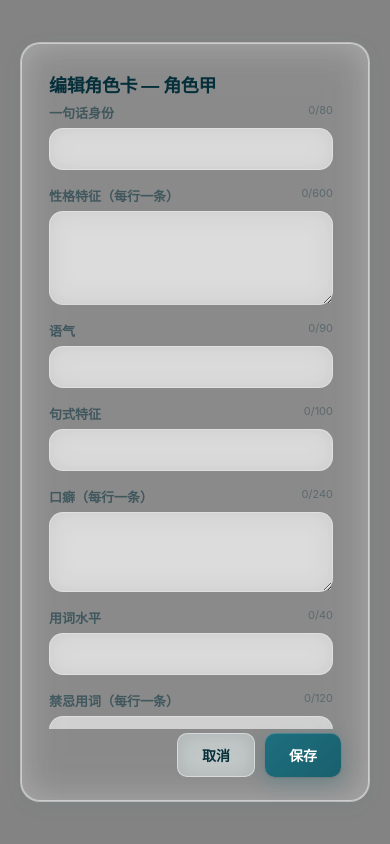
弹窗里的写失败不关窗 › 保存失败：错误显示在弹窗内，弹窗还开着、按钮可再点
The width and height of the screenshot is (390, 844).
Step 1. Click the button "保存" → (303,755), box x1=265 y1=733 x2=341 y2=777
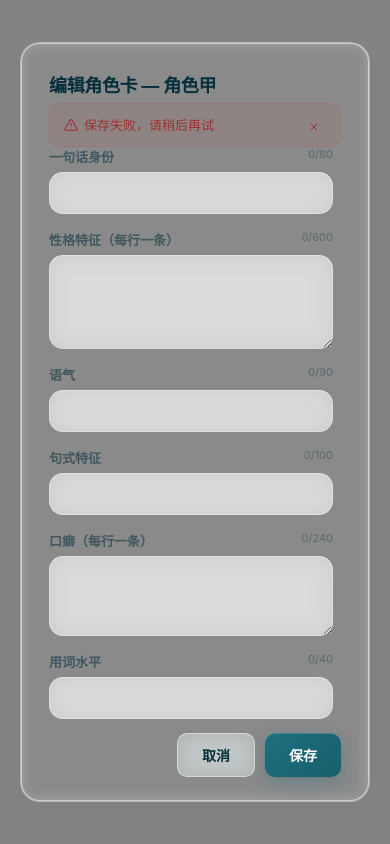
Expected: the element with class "error-box" is shown, x1=49 y1=103 x2=341 y2=147
Expected: the element with class "error-box" reads "保存失败，请稍后再试", x1=84 y1=117 x2=214 y2=133
